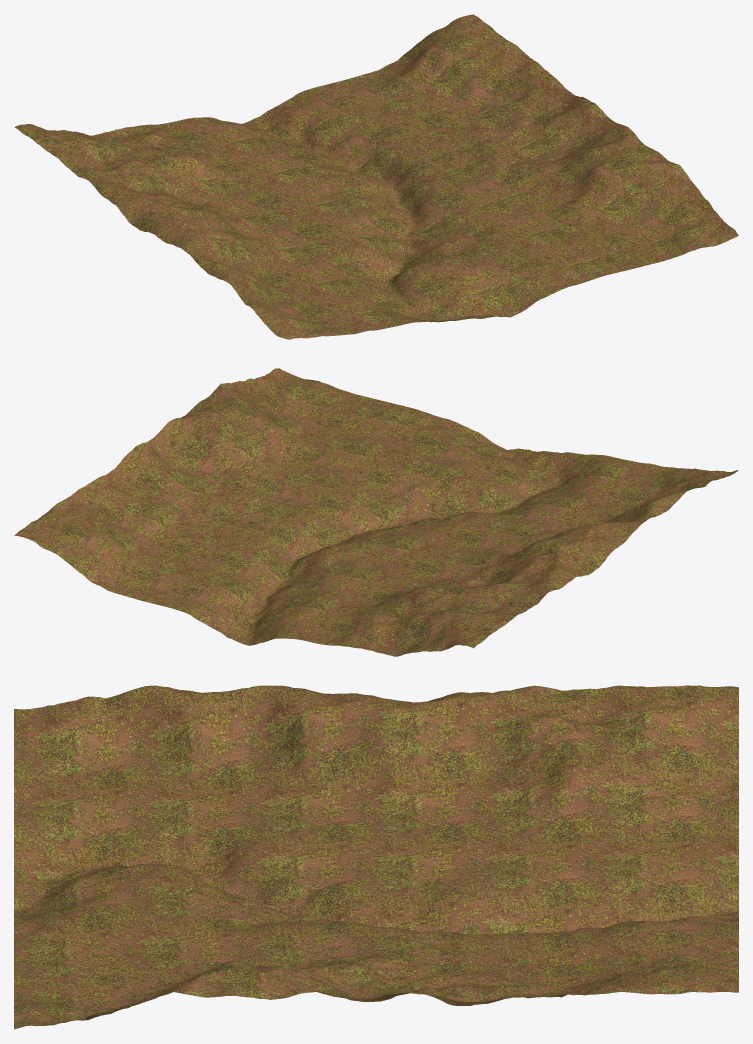
File: ground-transformed.glb
3 views of the same model, one above another, from view 1: azimuth 30°, elevation 25°; view 2: azimuth 150°, elevation 25°; view 3: azimuth 270°, elevation 25° (orthographic). The views are drawn at different scales.
Visible parts, largest first — view 1: Landscape; view 2: Landscape; view 3: Landscape.
Boxes of the visible parts, x1,y1,x2,y2 form: Landscape: [14, 14, 738, 339]; Landscape: [14, 368, 738, 656]; Landscape: [14, 685, 738, 1029].
Bounding box in the file's own units: 200 × 22.51 × 200.
1 material, 1 textured.
